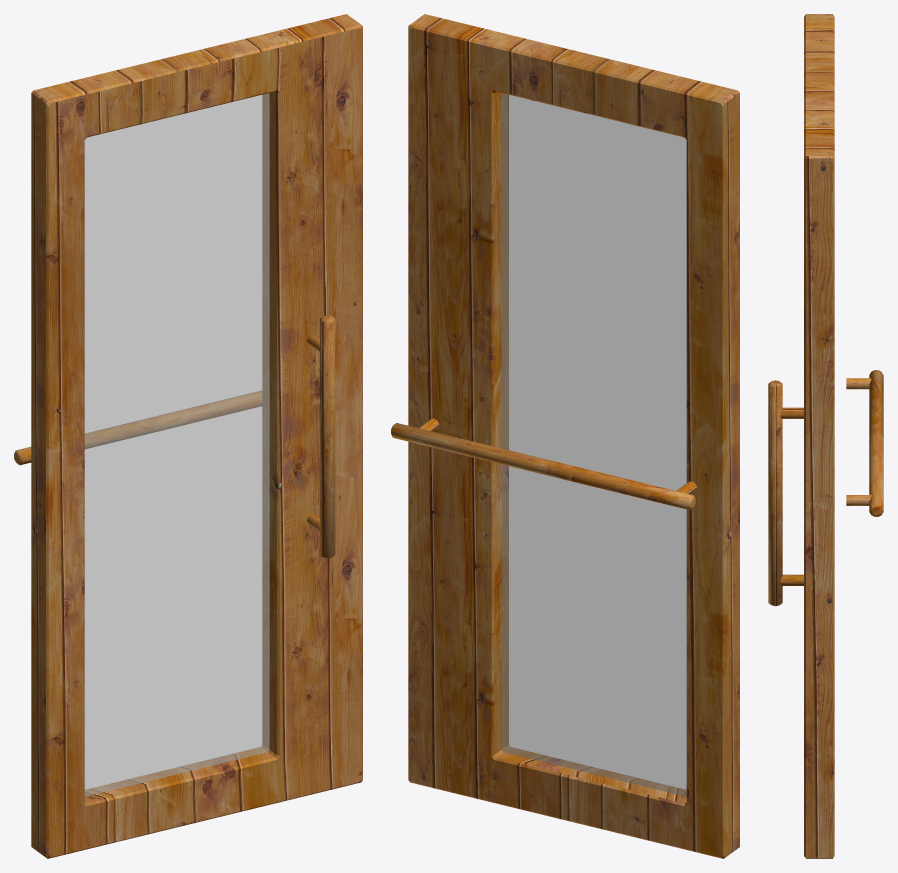
File: glassDoor.fbx
The picture shows the model from 3 angles, left to right: view 1: azimuth 30°, elevation 25°; view 2: azimuth 150°, elevation 25°; view 3: azimuth 270°, elevation 25°; orthographic projection. The views are drawn at different scales.
Visible parts, largest first — view 1: GlassDoorFrame, GlassDoor; view 2: GlassDoorFrame, GlassDoor; view 3: GlassDoorFrame.
Boxes of the visible parts, x1=… form: GlassDoorFrame: x1=14, y1=14, x2=362, y2=858; GlassDoor: x1=84, y1=93, x2=269, y2=796; GlassDoorFrame: x1=391, y1=14, x2=739, y2=858; GlassDoor: x1=501, y1=93, x2=686, y2=796; GlassDoorFrame: x1=768, y1=14, x2=883, y2=858.
Bounding box in the file's own units: 0.8776 × 2 × 0.2976.
